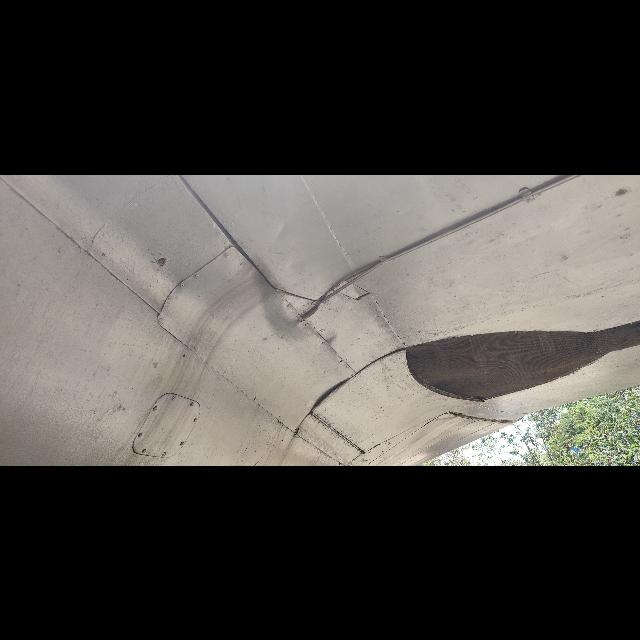dent: (259, 266, 329, 348), (268, 218, 294, 244)
